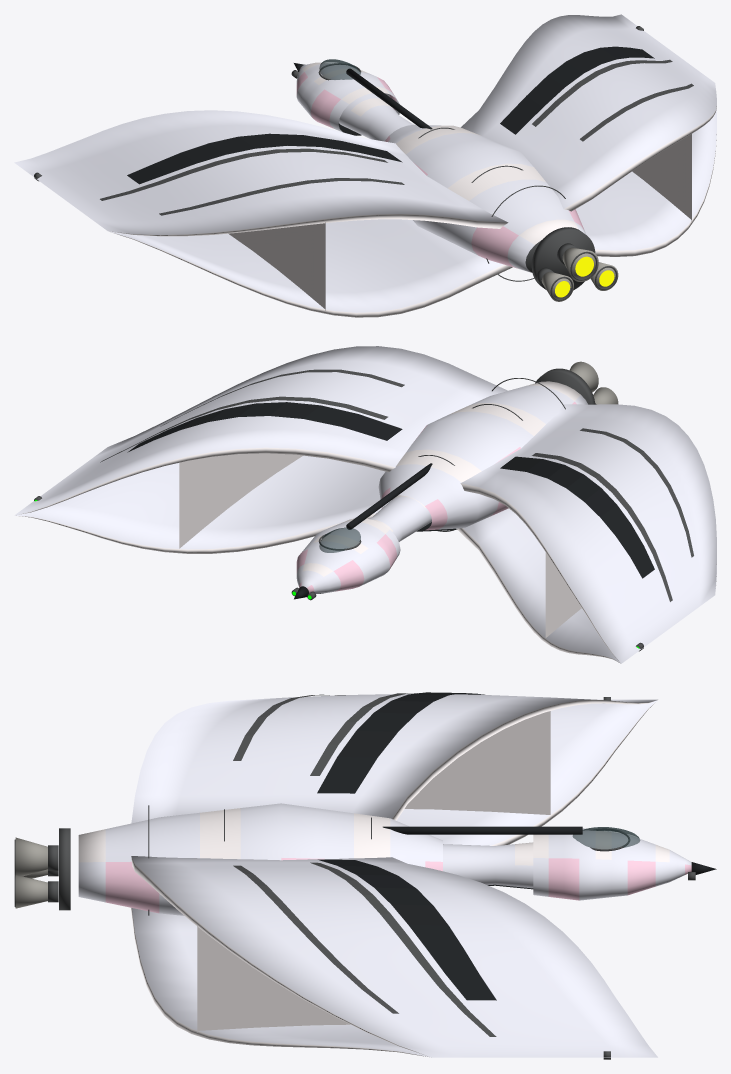
Rendered from Ship_Talonhunter_960664.glb.
The picture shows the model from 3 angles, top to bottom: view 1: azimuth 30°, elevation 25°; view 2: azimuth 150°, elevation 25°; view 3: azimuth 270°, elevation 25°; orthographic projection. The views are drawn at different scales.
Visible parts, largest first — view 1: WingUpper_Left_ForwardSweptCrescentPlate, WingUpper_Right_ForwardSweptCrescentPlate, WingLower_Right_ForwardSweptCrescentPlate.001, ReactorBody_AftOvalCore, WingLower_Right_ForwardSweptCrescentPlate, WingMidRib_Left_OpenGapSupportStrut, CommandHead_BeakedForwardPod, PaintCommandSpineEcho_Left_UpperInnerSweep, PaintCommandSpineEcho_Right_UpperInnerSweep, WingMidRib_Right_OpenGapSupportStrut, CommandNeck_NarrowForwardSpine, EngineDeck_AftCompactMountPlate (+8 smaller); view 2: WingUpper_Left_ForwardSweptCrescentPlate, WingUpper_Right_ForwardSweptCrescentPlate, WingLower_Right_ForwardSweptCrescentPlate, ReactorBody_AftOvalCore, WingLower_Right_ForwardSweptCrescentPlate.001, CommandHead_BeakedForwardPod, WingMidRib_Right_OpenGapSupportStrut, PaintCommandSpineEcho_Left_UpperInnerSweep, PaintCommandSpineEcho_Right_UpperInnerSweep, CommandNeck_NarrowForwardSpine, WingMidRib_Left_OpenGapSupportStrut, WingPanelLine_Left_Upper_PrimaryCurvedSpar (+6 smaller); view 3: WingUpper_Right_ForwardSweptCrescentPlate, WingUpper_Left_ForwardSweptCrescentPlate, ReactorBody_AftOvalCore, WingLower_Right_ForwardSweptCrescentPlate, WingLower_Right_ForwardSweptCrescentPlate.001, WingMidRib_Left_OpenGapSupportStrut, CommandHead_BeakedForwardPod, WingMidRib_Right_OpenGapSupportStrut, PaintCommandSpineEcho_Right_UpperInnerSweep, PaintCommandSpineEcho_Left_UpperInnerSweep, CommandNeck_NarrowForwardSpine, WingPanelLine_Right_Upper_PrimaryCurvedSpar (+8 smaller).
Part boxes in pixels (x1,y1,x2,y2): WingUpper_Left_ForwardSweptCrescentPlate: [14, 110, 508, 236]; WingUpper_Right_ForwardSweptCrescentPlate: [461, 14, 716, 211]; WingLower_Right_ForwardSweptCrescentPlate.001: [109, 219, 512, 317]; ReactorBody_AftOvalCore: [385, 124, 586, 272]; WingLower_Right_ForwardSweptCrescentPlate: [576, 109, 716, 256]; WingMidRib_Left_OpenGapSupportStrut: [228, 222, 325, 310]; CommandHead_BeakedForwardPod: [296, 62, 399, 135]; PaintCommandSpineEcho_Left_UpperInnerSweep: [127, 133, 402, 184]; PaintCommandSpineEcho_Right_UpperInnerSweep: [500, 46, 654, 134]; WingMidRib_Right_OpenGapSupportStrut: [632, 132, 691, 221]; CommandNeck_NarrowForwardSpine: [339, 93, 413, 141]; EngineDeck_AftCompactMountPlate: [531, 227, 595, 290]; WingUpper_Left_ForwardSweptCrescentPlate: [460, 404, 716, 663]; WingUpper_Right_ForwardSweptCrescentPlate: [14, 346, 508, 515]; WingLower_Right_ForwardSweptCrescentPlate: [15, 455, 385, 553]; ReactorBody_AftOvalCore: [378, 381, 587, 531]; WingLower_Right_ForwardSweptCrescentPlate.001: [456, 508, 716, 663]; CommandHead_BeakedForwardPod: [296, 518, 400, 593]; WingMidRib_Right_OpenGapSupportStrut: [179, 453, 302, 548]; PaintCommandSpineEcho_Left_UpperInnerSweep: [500, 456, 654, 578]; PaintCommandSpineEcho_Right_UpperInnerSweep: [127, 402, 402, 452]; CommandNeck_NarrowForwardSpine: [369, 495, 431, 541]; WingMidRib_Left_OpenGapSupportStrut: [545, 553, 581, 637]; WingPanelLine_Left_Upper_PrimaryCurvedSpar: [532, 453, 672, 601]; WingUpper_Right_ForwardSweptCrescentPlate: [131, 856, 657, 1057]; WingUpper_Left_ForwardSweptCrescentPlate: [131, 694, 657, 823]; ReactorBody_AftOvalCore: [78, 803, 442, 915]; WingLower_Right_ForwardSweptCrescentPlate: [131, 908, 431, 1057]; WingLower_Right_ForwardSweptCrescentPlate.001: [396, 700, 657, 845]; WingMidRib_Left_OpenGapSupportStrut: [404, 711, 550, 814]; CommandHead_BeakedForwardPod: [533, 828, 691, 900]; WingMidRib_Right_OpenGapSupportStrut: [197, 925, 350, 1032]; PaintCommandSpineEcho_Right_UpperInnerSweep: [318, 859, 496, 1000]; PaintCommandSpineEcho_Left_UpperInnerSweep: [317, 692, 484, 793]; CommandNeck_NarrowForwardSpine: [443, 842, 533, 889]; WingPanelLine_Right_Upper_PrimaryCurvedSpar: [310, 862, 496, 1036].
Size of the model in its own units: 8.3 by 1.43 by 6.89.
